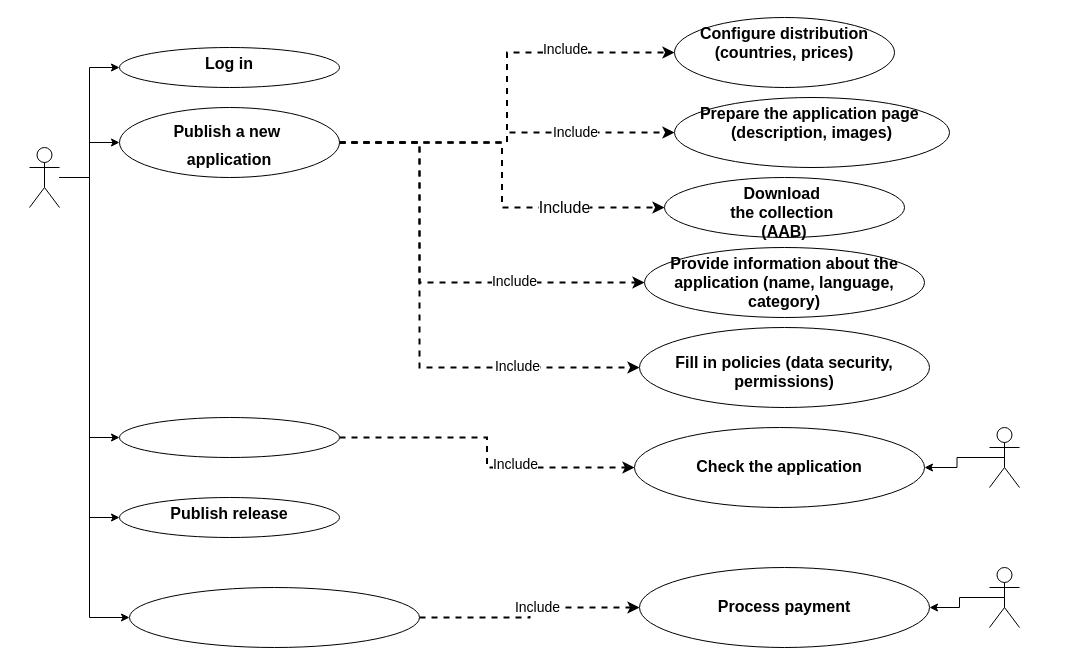
This 1071x666 diagram has some shape labels left out. Each missing label, with the centre of its shape:
"Developer" belongs at (x=44, y=177).
"developer contribution (if needed)" belongs at (x=274, y=617).
"Google Moderator" belongs at (x=1004, y=457).
"Payment Gateway" belongs at (x=1004, y=597).
"Submit for review" belongs at (x=229, y=437).
